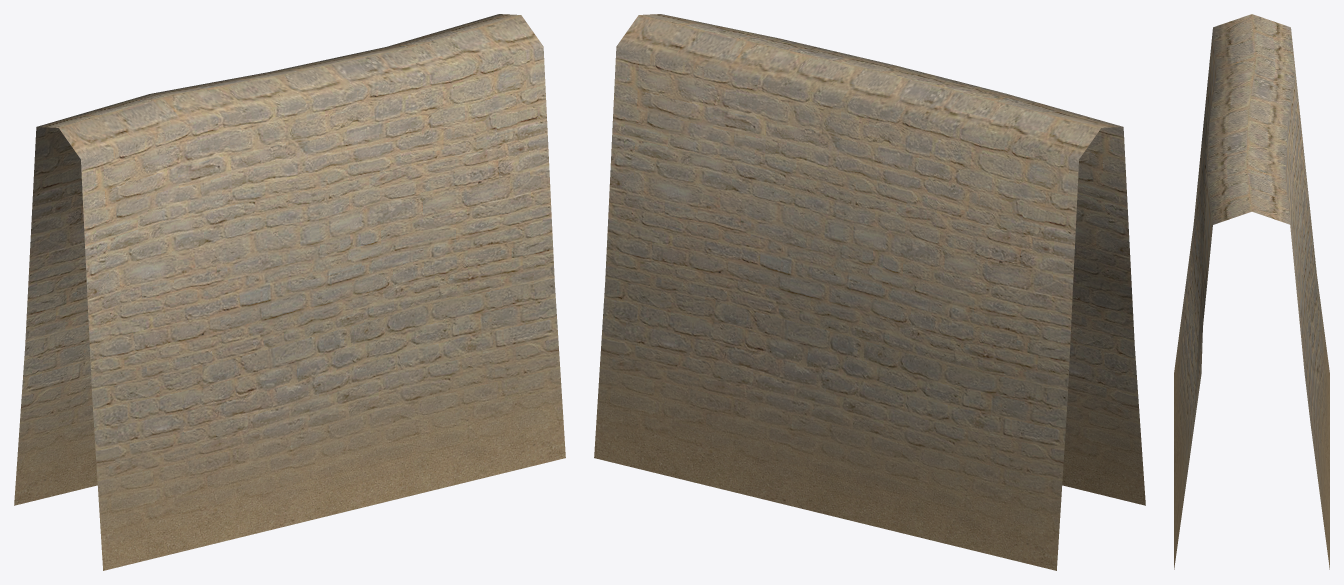
The model's file is wall_stone_straight.fbx.
3 renders of one model, left to right at view 1: azimuth 30°, elevation 25°; view 2: azimuth 150°, elevation 25°; view 3: azimuth 270°, elevation 25°, orthographic. The views are drawn at different scales.
Parts seen in each view (by area): view 1: wall_stone_straight; view 2: wall_stone_straight; view 3: wall_stone_straight.
Boxes of the visible parts, x1=… form: wall_stone_straight: x1=14, y1=14, x2=565, y2=570; wall_stone_straight: x1=594, y1=14, x2=1145, y2=570; wall_stone_straight: x1=1174, y1=14, x2=1329, y2=569.
Bounding box in the file's own units: 3 × 2.56 × 1.
